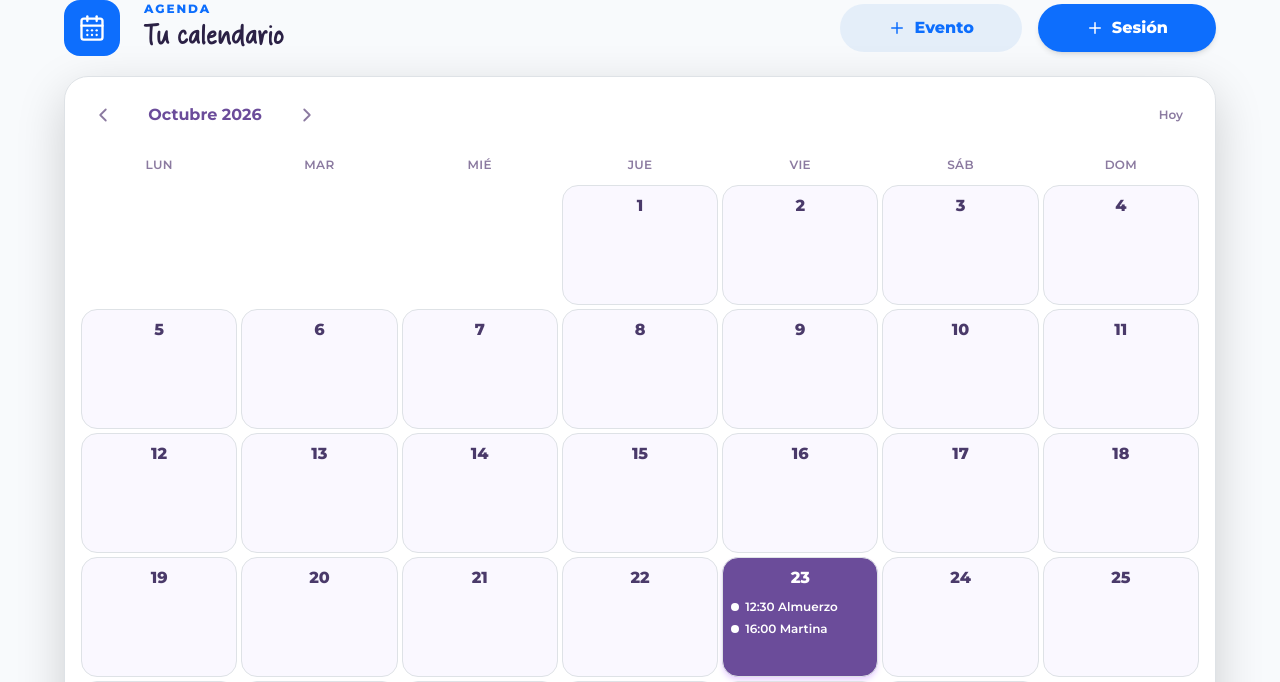
Test: ProfessionalCalendar › muestra un solo calendario con sesiones y eventos mezclados, sin selector ni filtros
The image size is (1280, 682).
Expected: the heading "Tu calendario" is shown, [144, 17, 284, 55]
Click the button with aria-label "2 elementos": (800, 617) [722, 557, 878, 677]
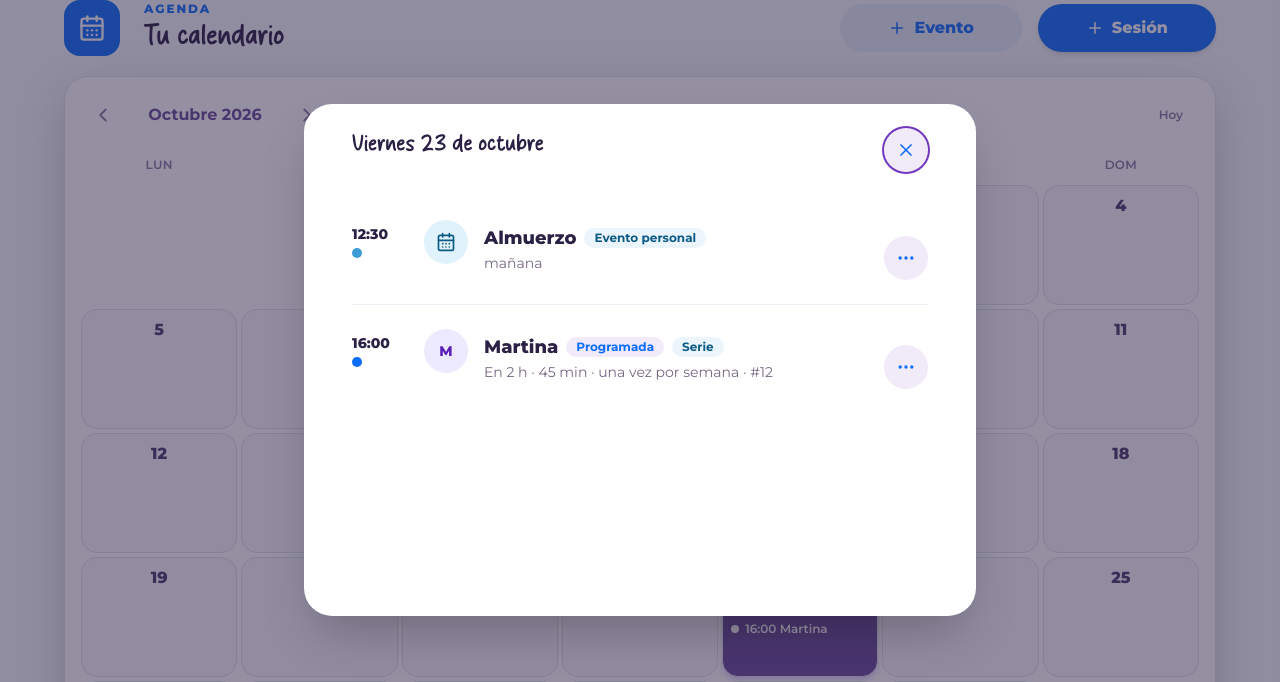
Now the text "Martina" is shown, box [484, 336, 558, 358]
Now the text "Almuerzo" is shown, box [484, 227, 576, 249]
